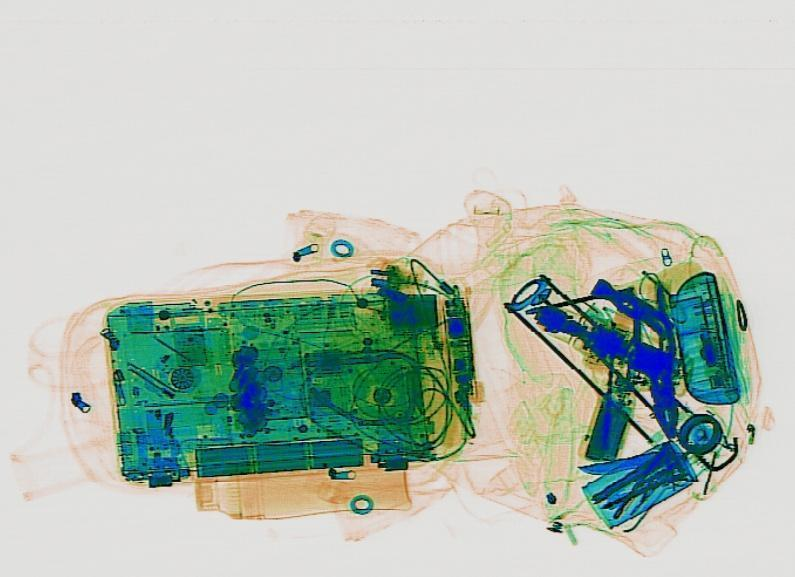Knife: (572, 448, 665, 477)
